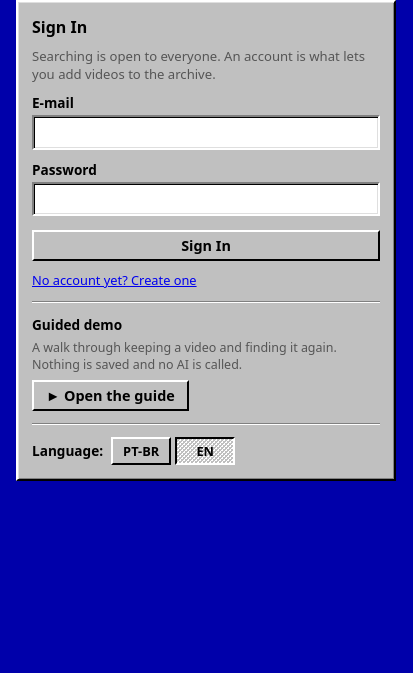
Test: AuthPanel › should not offer the guide when sign up fails
Click the button "No account yet? Create one" at (114, 280), box [32,271,197,289]
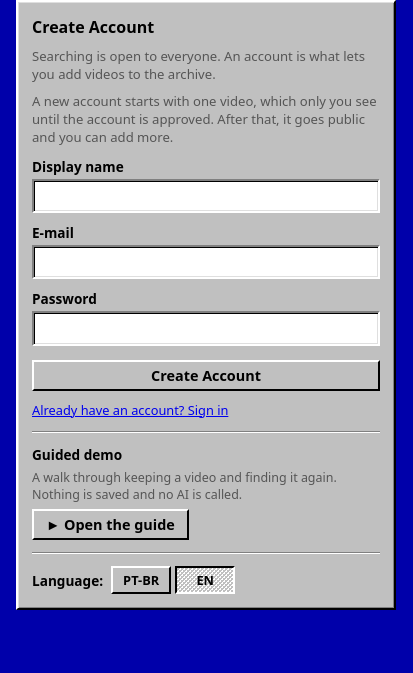
Type "Maria" into the field labelled "Display name" at (206, 196), box [32,179,380,213]
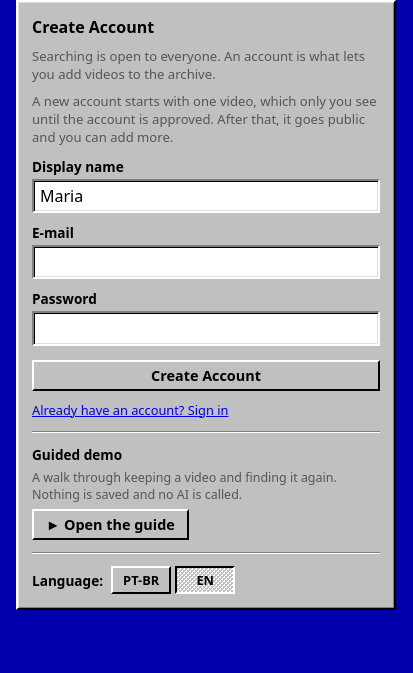
Type "maria@exemplo.com" into the field labelled "E-mail" at (206, 262), box [32,245,380,279]
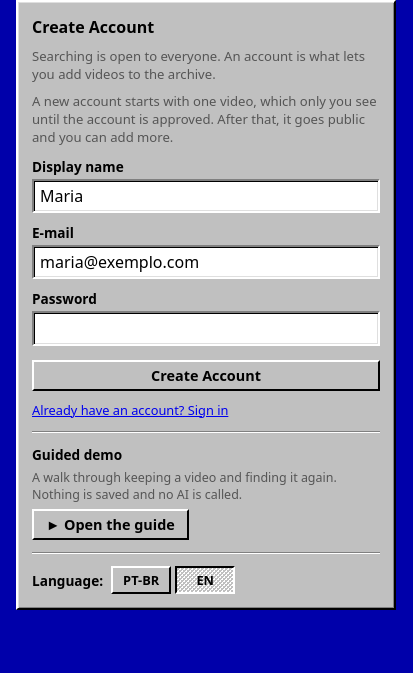
Type "segredo123" into the password field labelled "Password" at (206, 329), box [32,311,380,346]
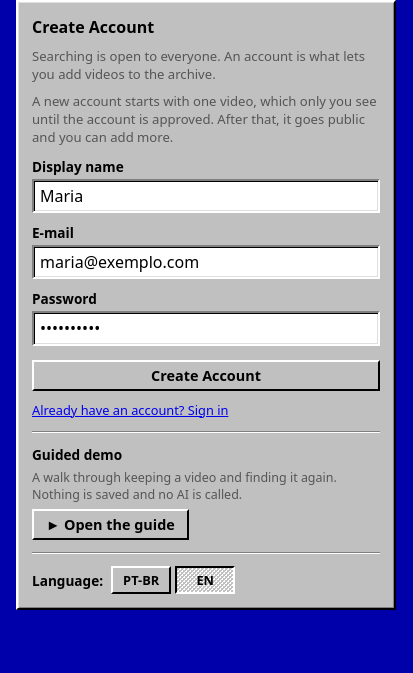
Click the button "Create Account" at (206, 375), box [32,360,380,391]
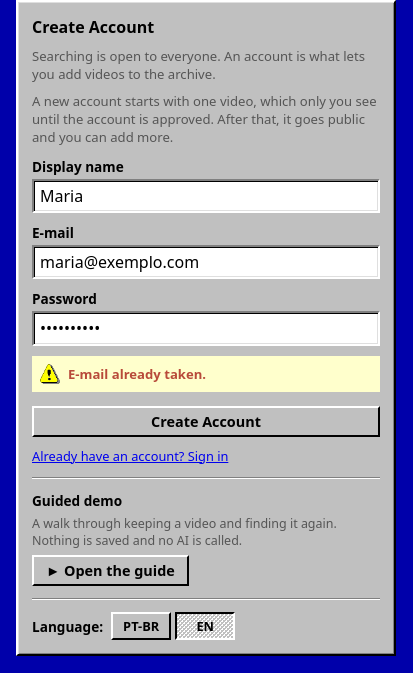
Check: the text "E-mail already taken." is shown, box [68,365,206,383]
